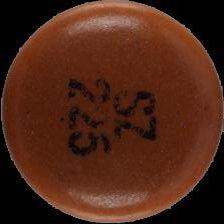52125-138: (0, 0, 224, 224)
